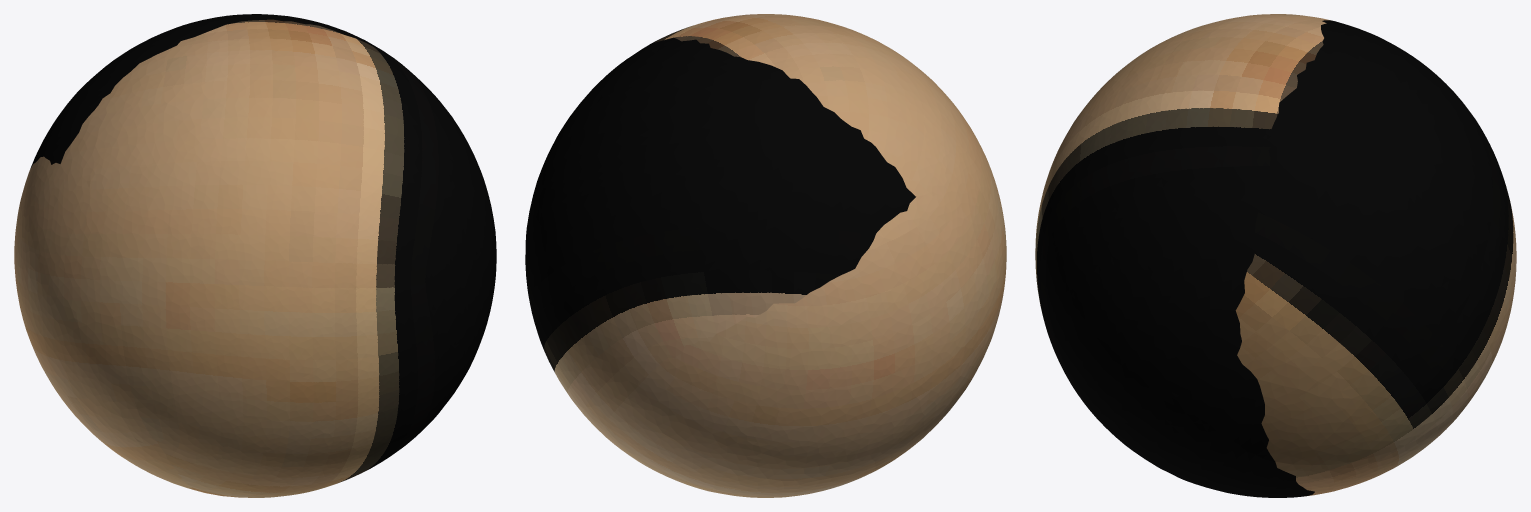
The picture shows the model from 3 angles, left to right: view 1: azimuth 30°, elevation 25°; view 2: azimuth 150°, elevation 25°; view 3: azimuth 270°, elevation 25°; orthographic projection.
Size of the model in its own units: 0.0558 by 0.0561 by 0.0556.
